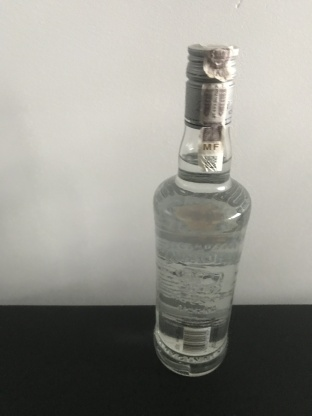nakretka: (182, 39, 240, 130)
